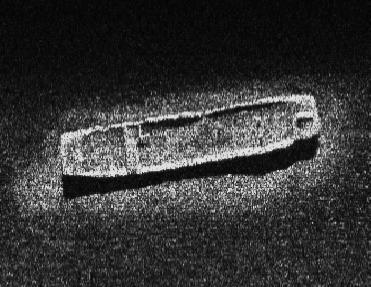ship: (58, 91, 323, 180)
